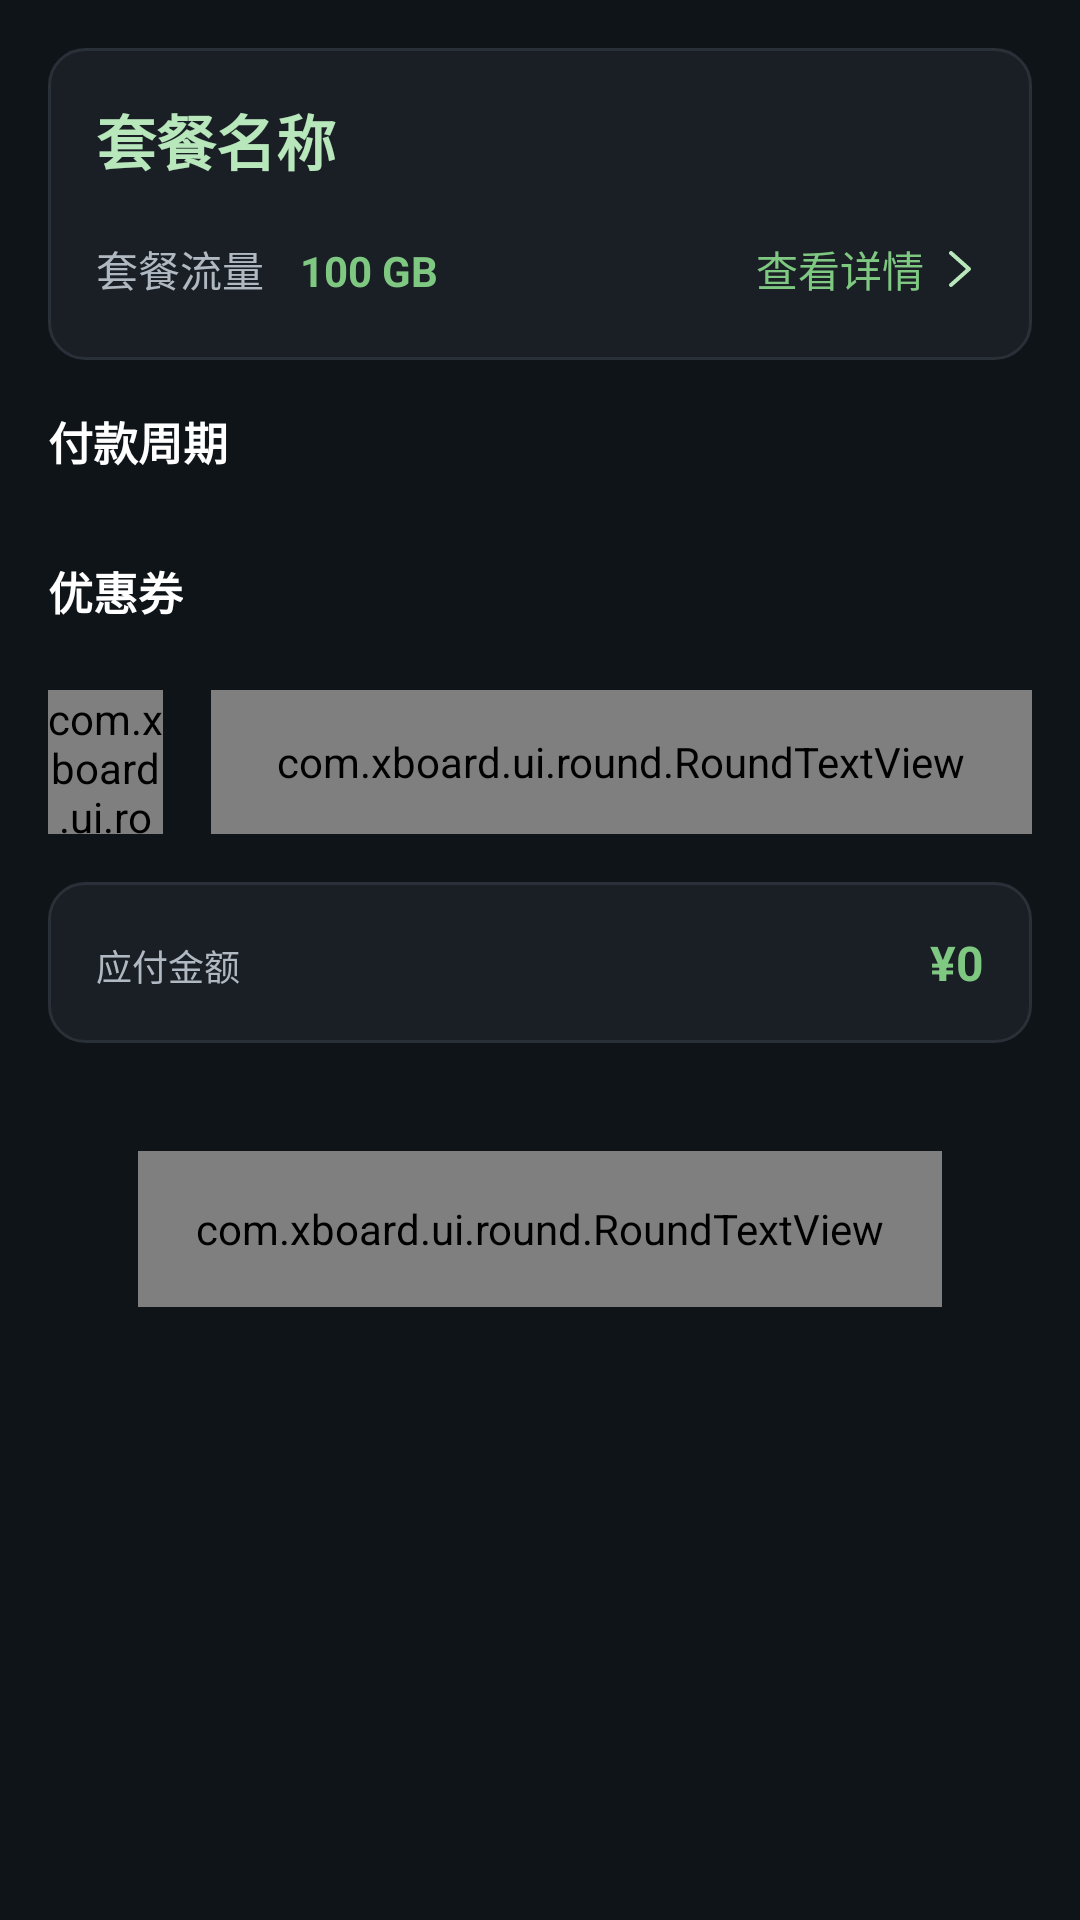

Screen size 1080x1920. Icon name, then its box in pixels as box=[x1, y1, x2, y2]:
arrow right: box=[949, 251, 971, 287]
